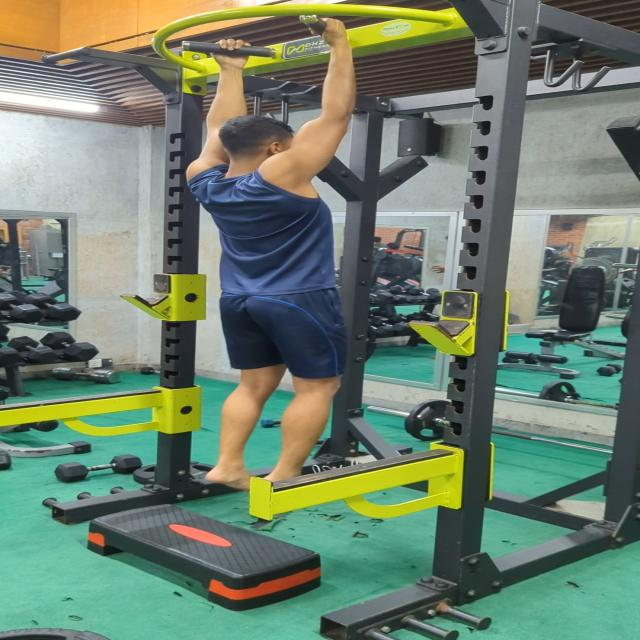Normal_PullUps: (183, 14, 360, 490)
